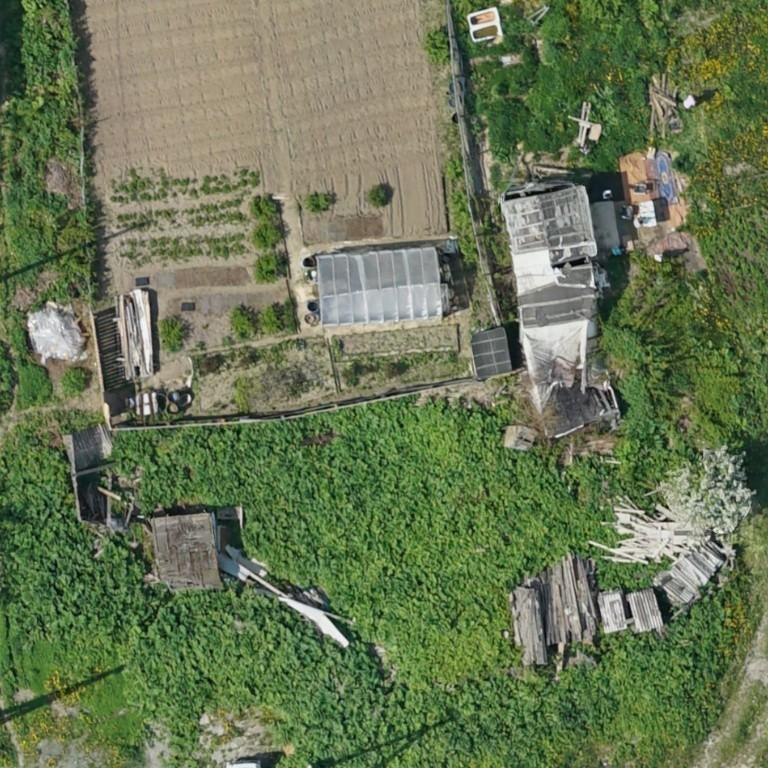hogweed: (0, 435, 758, 767), (113, 395, 670, 691)
